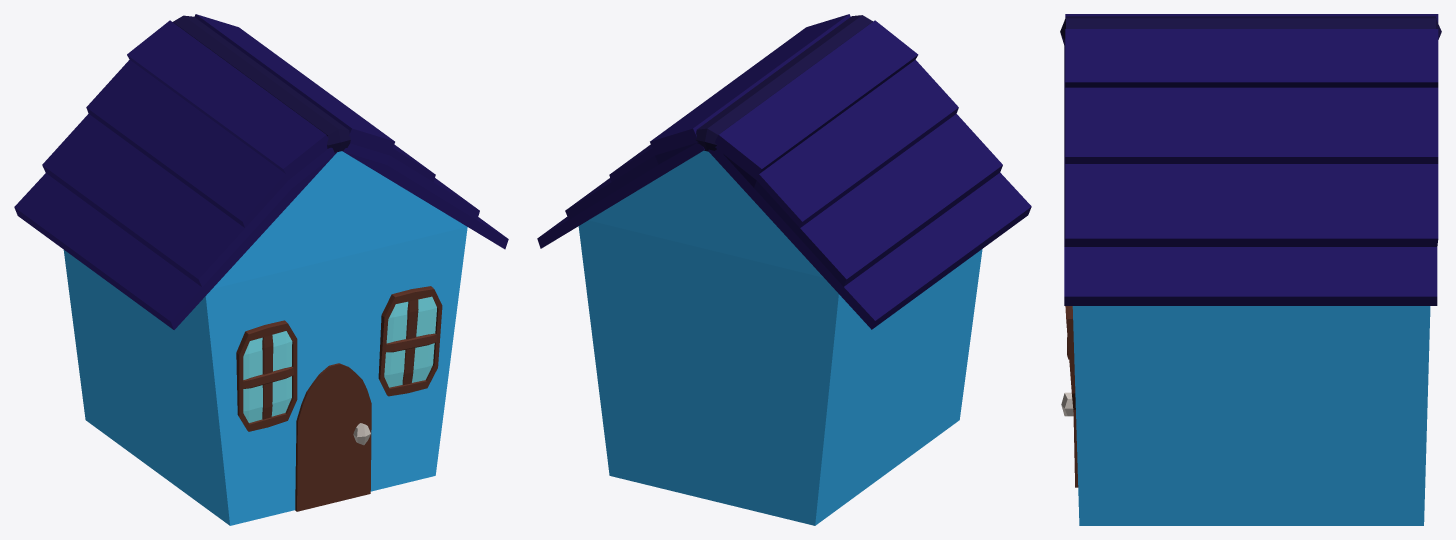
The model's file is HouseB.fbx.
3 views of the same model, side by side, from view 1: azimuth 30°, elevation 25°; view 2: azimuth 150°, elevation 25°; view 3: azimuth 270°, elevation 25° (orthographic). The views are drawn at different scales.
Parts seen in each view (by area): view 1: Cube.041, Cube.042, Cube.050, Cube.045, Cube.046, Cube.047, Cube.044; view 2: Cube.041, Cube.042; view 3: Cube.042, Cube.041, Cube.046.
Part boxes in pixels (left/top/right/bottom): Cube.041: left=63, top=15, right=467, bottom=525; Cube.042: left=14, top=14, right=508, bottom=329; Cube.050: left=295, top=363, right=371, bottom=511; Cube.045: left=236, top=320, right=297, bottom=431; Cube.046: left=378, top=286, right=442, bottom=396; Cube.047: left=402, top=299, right=418, bottom=384; Cube.044: left=262, top=335, right=273, bottom=419; Cube.041: left=578, top=15, right=982, bottom=525; Cube.042: left=537, top=14, right=1031, bottom=329; Cube.042: left=1064, top=14, right=1438, bottom=305; Cube.041: left=1060, top=16, right=1441, bottom=525; Cube.046: left=1065, top=306, right=1075, bottom=409.
Bounding box in the file's own units: 843 × 896 × 691.
